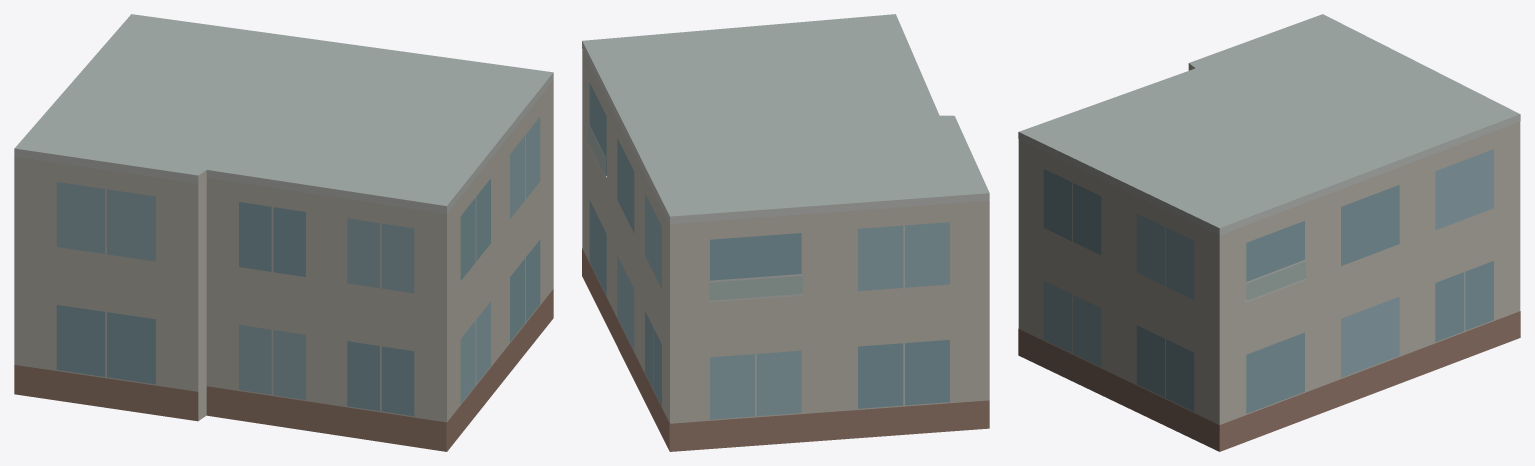
Rendered from survey-upis-32824302.glb.
3 views of the same model, side by side, from view 1: azimuth 30°, elevation 25°; view 2: azimuth 150°, elevation 25°; view 3: azimuth 270°, elevation 25° (orthographic). The views are drawn at different scales.
Parts seen in each view (by area): view 1: survey-upis-32824302.tmp; view 2: survey-upis-32824302.tmp; view 3: survey-upis-32824302.tmp.
Part boxes in pixels (x1,y1,x2,y2): survey-upis-32824302.tmp: (14,14,553,451); survey-upis-32824302.tmp: (582,14,989,451); survey-upis-32824302.tmp: (1018,14,1520,451).
Bounding box in the file's own units: 15.62 × 7.6 × 15.46.
